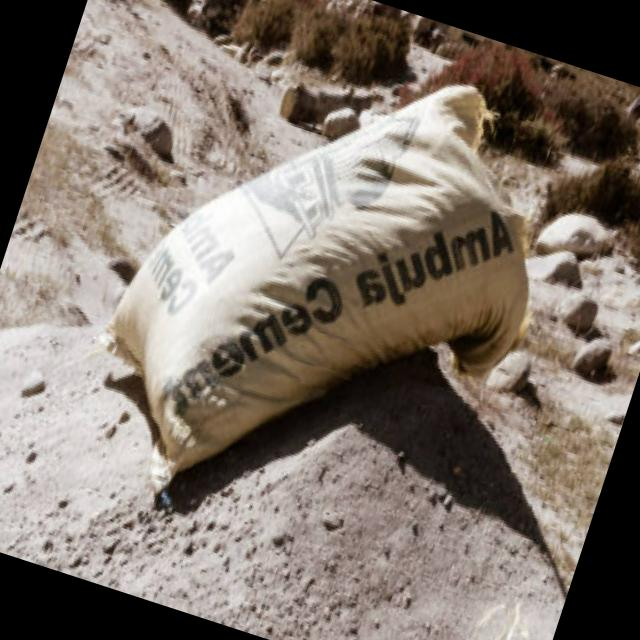KantongSemen: (59, 0, 593, 595)
